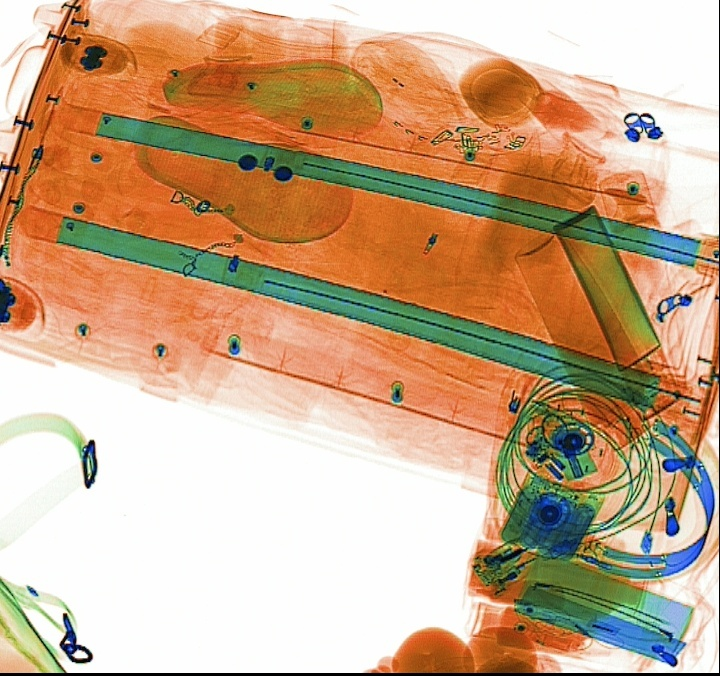powerbank: (500, 468, 607, 563)
pressure: (548, 204, 663, 380)
